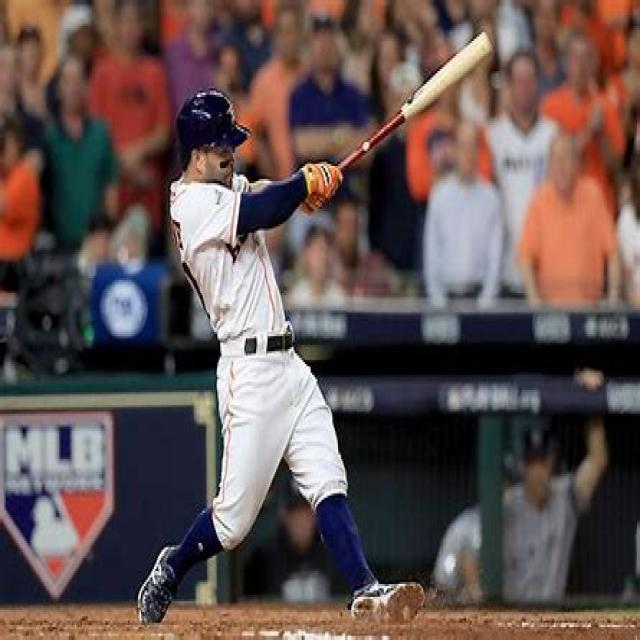bat: (332, 23, 499, 175)
